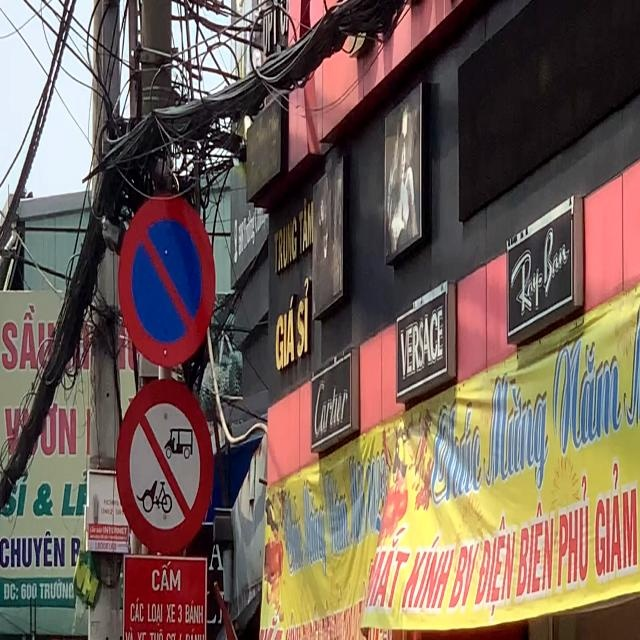bien_cam: (119, 191, 216, 370)
